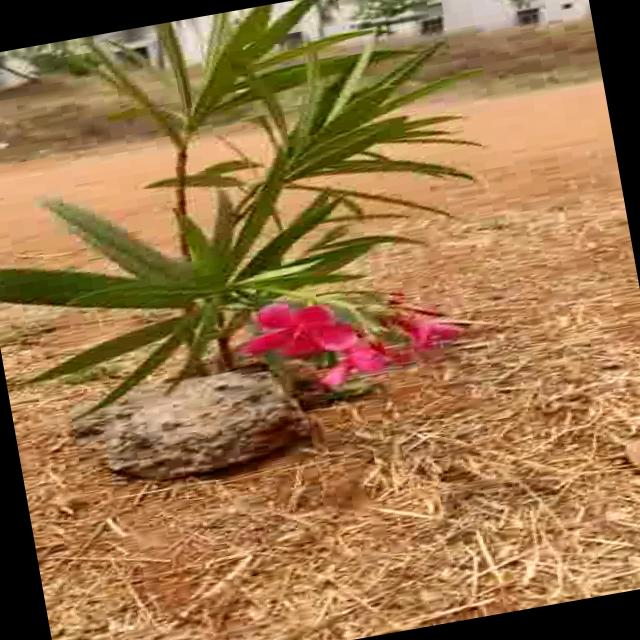Oleander: (0, 0, 527, 410)
